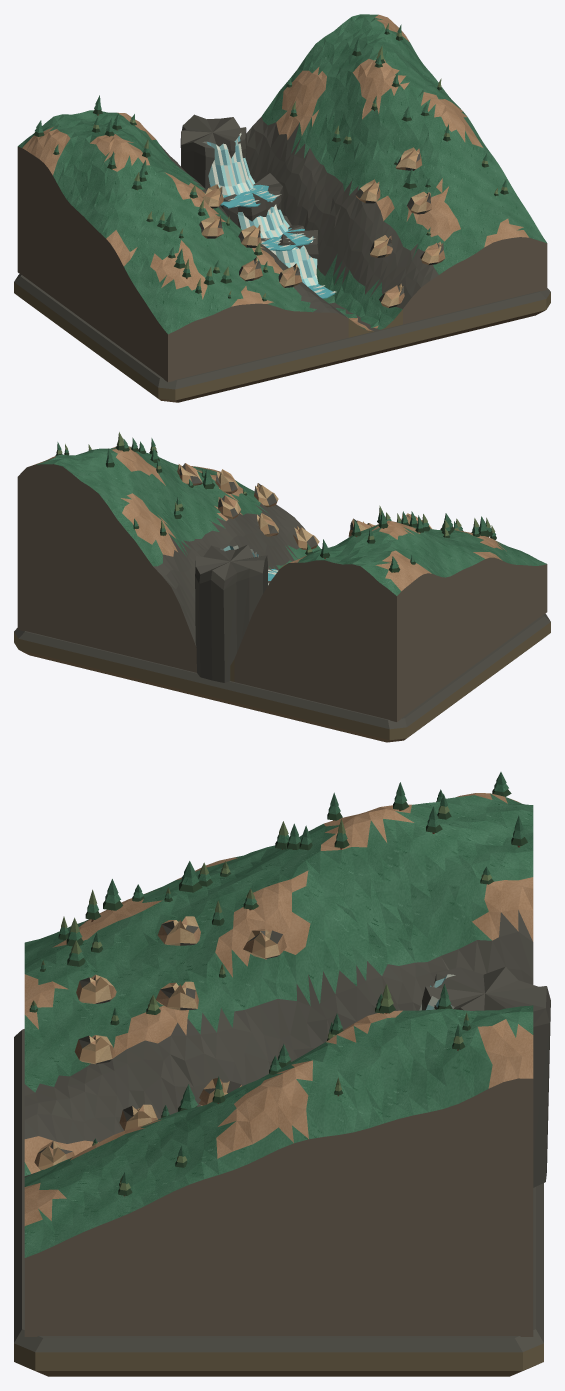
The model's file is lushan.glb.
3 renders of one model, top to bottom at view 1: azimuth 30°, elevation 25°; view 2: azimuth 150°, elevation 25°; view 3: azimuth 270°, elevation 25°, orthographic. The views are drawn at different scales.
Parts seen in each view (by area): view 1: 庐山·三叠泉; view 2: 庐山·三叠泉; view 3: 庐山·三叠泉.
Boxes of the visible parts, <box> form: 庐山·三叠泉: <box>14,14,550,402</box>; 庐山·三叠泉: <box>14,432,550,742</box>; 庐山·三叠泉: <box>14,772,550,1376</box>.
Bounding box in the file's own units: 6.15 × 3.05 × 4.31.
16 materials, 7 textured.
